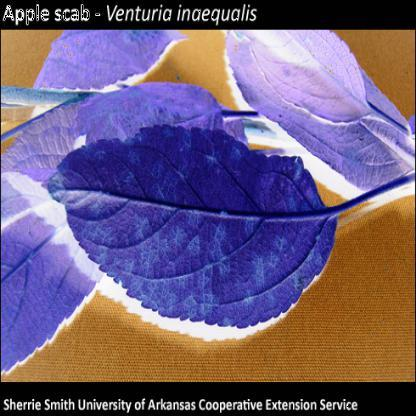Apple Scab Leaf: (51, 117, 347, 343)
